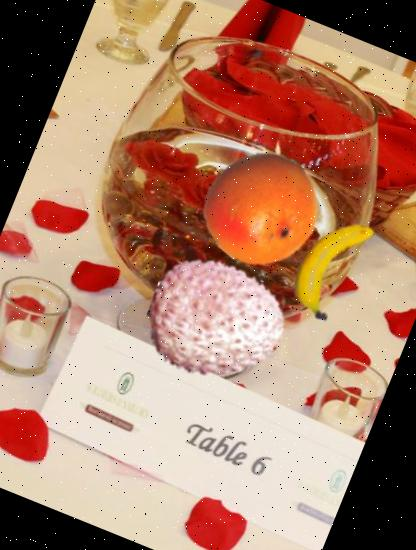Banana: (268, 199, 406, 337)
Grapefruit: (186, 134, 336, 283)
Lychee: (127, 233, 306, 411)
